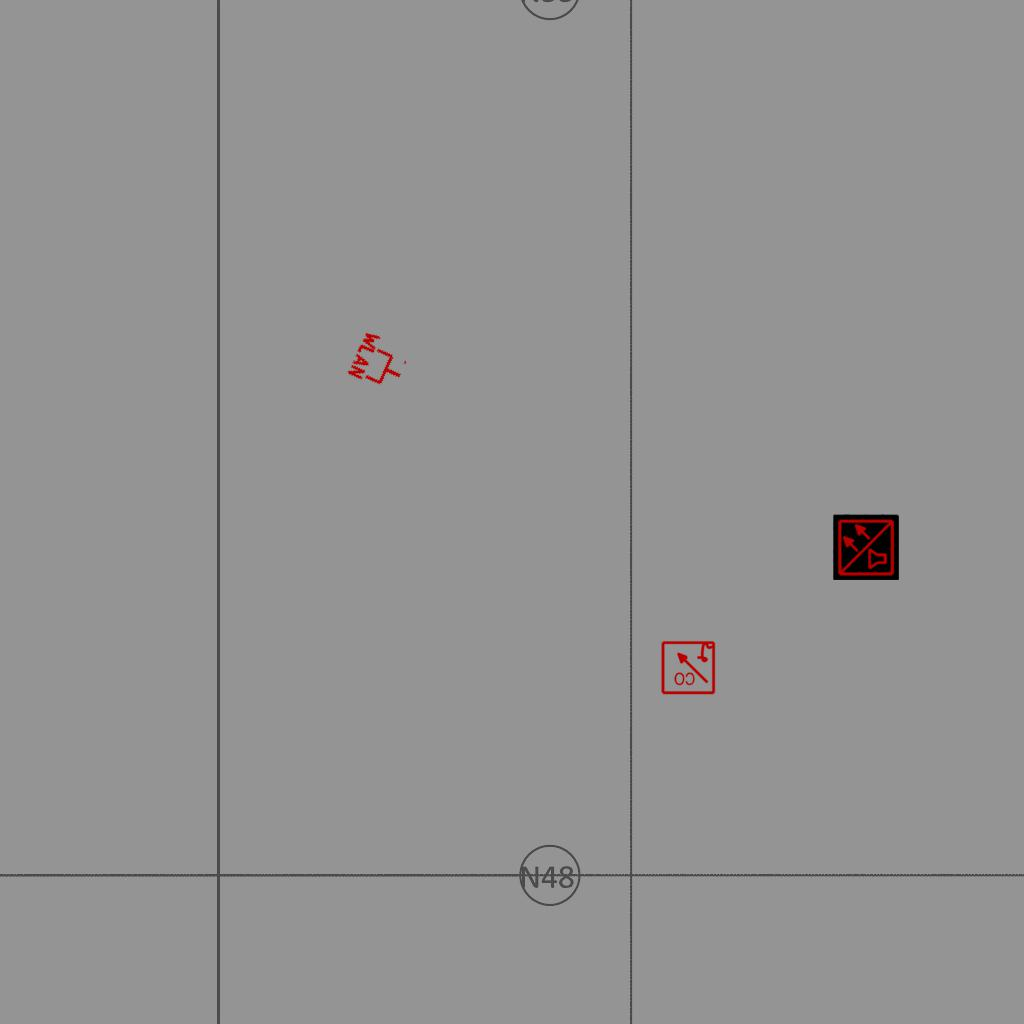OKW_Multisensormelder_(Kombination_optischer_Rauch-Kahlenmonoxid_Waerme-Melder): (833, 514, 899, 580)
ROA_Rauchmelder_optisch_mit_Signalgeber_(Sockelsirene): (660, 639, 716, 695)
WLAN: (345, 327, 415, 397)
